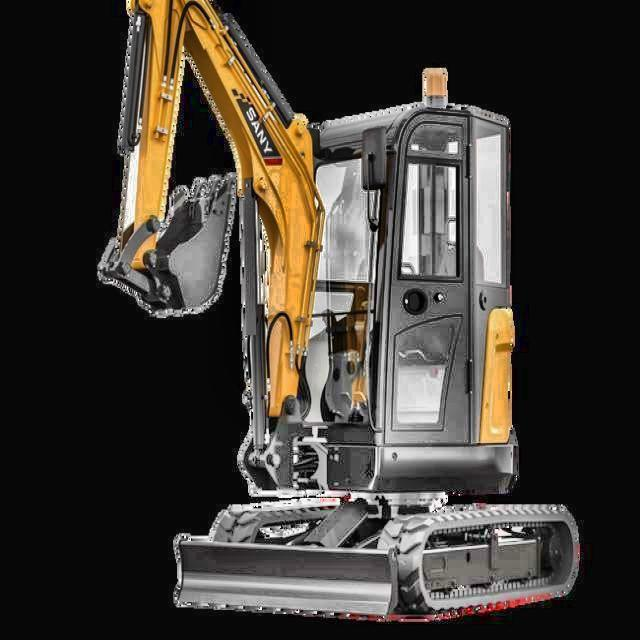excavator: (100, 0, 581, 622)
